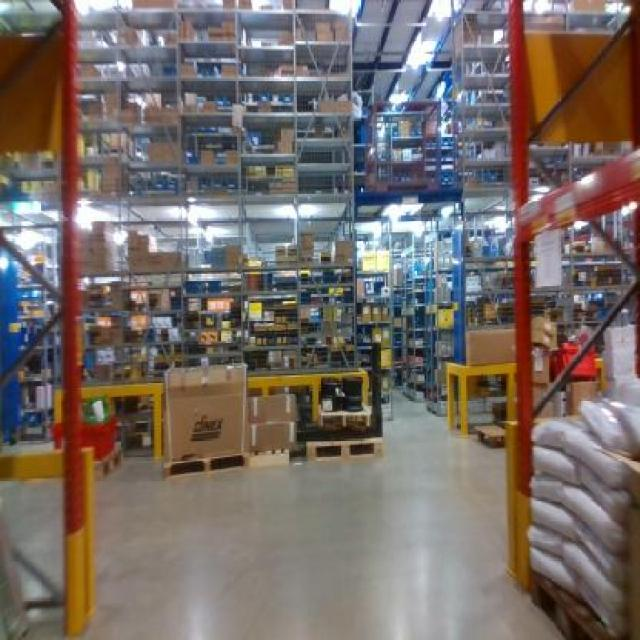ground: (86, 394, 569, 638)
pallet: (526, 562, 636, 638), (158, 452, 252, 478), (301, 439, 388, 461), (471, 424, 504, 452)
